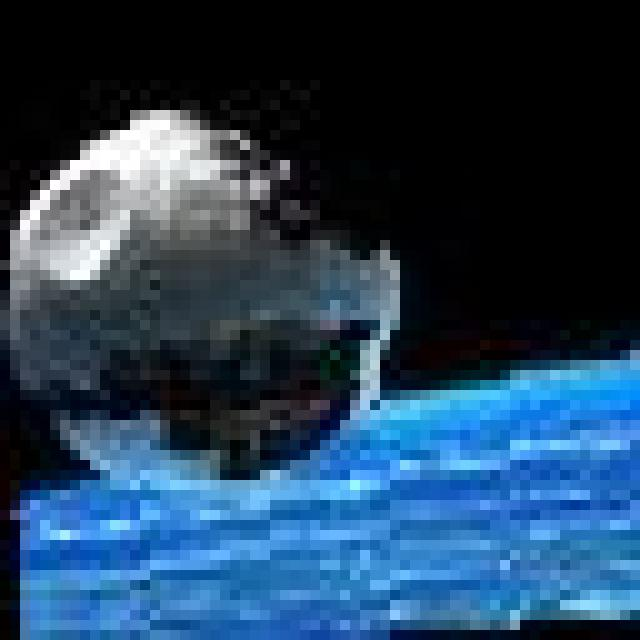Death Star: (0, 90, 410, 490)
